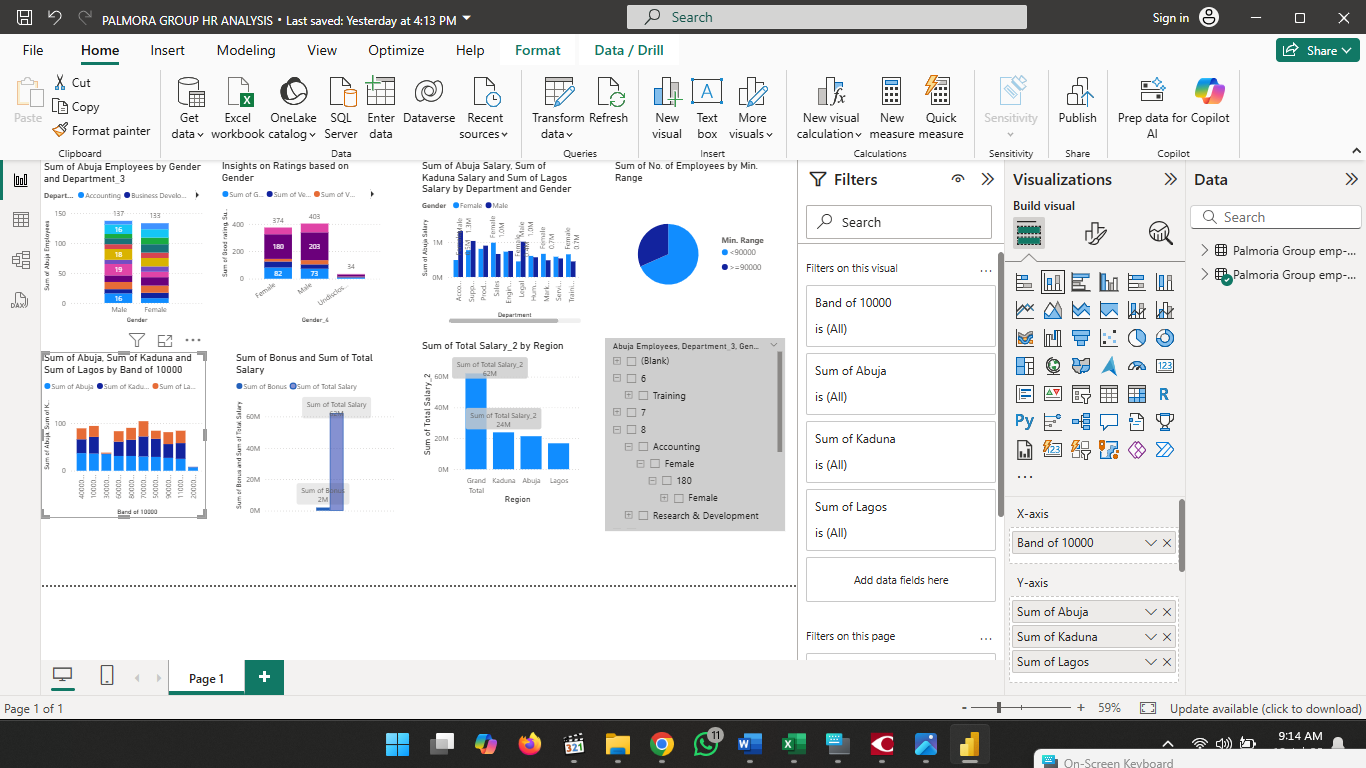

This screenshot's page, from the dashboard's own definition file:
{"tool":"powerbi","page":{"name":"Page 1","canvas":[1280,720],"ordinal":0},"visuals":[{"type":"columnChart","fields":{"Category":["Palmoria Group emp-Cleaned data.Gender "],"Series":["Palmoria Group emp-Cleaned data.Department_3"],"Y":["Sum(Palmoria Group emp-Cleaned data.Abuja Employees)"]},"box":[0,1.7,279.4,279.4],"z":0},{"type":"columnChart","title":"Insights on Ratings based on Gender","fields":{"Category":["Palmoria Group emp-Cleaned data.Gender_4"],"Y":["Sum(Palmoria Group emp-Cleaned data.Good rating)","Sum(Palmoria Group emp-Cleaned data.Very good rating)","Sum(Palmoria Group emp-Cleaned data.Very Poor rating)","Sum(Palmoria Group emp-Cleaned data.Average Rating)","Sum(Palmoria Group emp-Cleaned data.Poor rating)"]},"box":[301.4,0,279.4,281.1],"z":1000},{"type":"clusteredColumnChart","fields":{"Category":["Palmoria Group emp-Cleaned data.Department_3"],"Series":["Palmoria Group emp-Cleaned data.Gender "],"Y":["Sum(Palmoria Group emp-Cleaned data.Abuja Salary)"]},"box":[640,0,279.4,281.1],"z":2000},{"type":"pieChart","fields":{"Category":["Palmoria Group emp-Cleaned data.Min. Range"],"Y":["Sum(Palmoria Group emp-Cleaned data.No. of Employees)"]},"box":[966.8,0,279.4,281.1],"z":3000},{"type":"columnChart","fields":{"Category":["Palmoria Group emp-Cleaned data (2).Band of 10000"],"Y":["Sum(Palmoria Group emp-Cleaned data (2).Abuja)","Sum(Palmoria Group emp-Cleaned data (2).Kaduna)","Sum(Palmoria Group emp-Cleaned data (2).Lagos)"]},"box":[0,325.1,279.4,281.1],"z":4000},{"type":"clusteredColumnChart","fields":{"Y":["Sum(Palmoria Group emp-Cleaned data.Bonus)","Sum(Palmoria Group emp-Cleaned data.Total Salary)"]},"box":[325.1,325.1,279.4,282.8],"z":5000},{"type":"columnChart","fields":{"Category":["Palmoria Group emp-Cleaned data (2).Location_1"],"Y":["Sum(Palmoria Group emp-Cleaned data (2).Total Salary_2)"]},"box":[640,304.8,279.4,282.8],"z":6000},{"type":"slicer","fields":{"Values":["Palmoria Group emp-Cleaned data.Abuja Employees","Palmoria Group emp-Cleaned data.Department_3","Palmoria Group emp-Cleaned data.Gender ","Palmoria Group emp-Cleaned data.Average Rating","Palmoria Group emp-Cleaned data.Gender_4","Palmoria Group emp-Cleaned data.Good rating","Palmoria Group emp-Cleaned data.Department_3","Palmoria Group emp-Cleaned data.Gender ","Palmoria Group emp-Cleaned data.Kaduna Salary","Palmoria Group emp-Cleaned data.Lagos Salary","Palmoria Group emp-Cleaned data.Min. Range","Palmoria Group emp-Cleaned data.No. of Employees"]},"box":[954.9,301.4,304.8,326.8],"z":7000}]}

Visuals, with their boxes on the page's 1280x720 design canvas (x1, y1, x2, y2). These are canvas units, not pixel positions in the 1366x768 screenshot, which may show the page scaled, cropped or inside an application window:
columnChart - Palmoria Group emp-Cleaned data.Gender  x Palmoria Group emp-Cleaned data.Department_3: <bbox>0, 2, 279, 281</bbox>
"Insights on Ratings based on Gender" columnChart: <bbox>301, 0, 581, 281</bbox>
clusteredColumnChart - Palmoria Group emp-Cleaned data.Department_3 x Palmoria Group emp-Cleaned data.Gender : <bbox>640, 0, 919, 281</bbox>
pieChart - Palmoria Group emp-Cleaned data.Min. Range x Sum(Palmoria Group emp-Cleaned data.No. of Employees): <bbox>967, 0, 1246, 281</bbox>
columnChart - Palmoria Group emp-Cleaned data (2).Band of 10000 x Sum(Palmoria Group emp-Cleaned data (2).Abuja): <bbox>0, 325, 279, 606</bbox>
clusteredColumnChart - Sum(Palmoria Group emp-Cleaned data.Bonus) x Sum(Palmoria Group emp-Cleaned data.Total Salary): <bbox>325, 325, 604, 608</bbox>
columnChart - Palmoria Group emp-Cleaned data (2).Location_1 x Sum(Palmoria Group emp-Cleaned data (2).Total Salary_2): <bbox>640, 305, 919, 588</bbox>
slicer - Palmoria Group emp-Cleaned data.Abuja Employees x Palmoria Group emp-Cleaned data.Department_3: <bbox>955, 301, 1260, 628</bbox>
